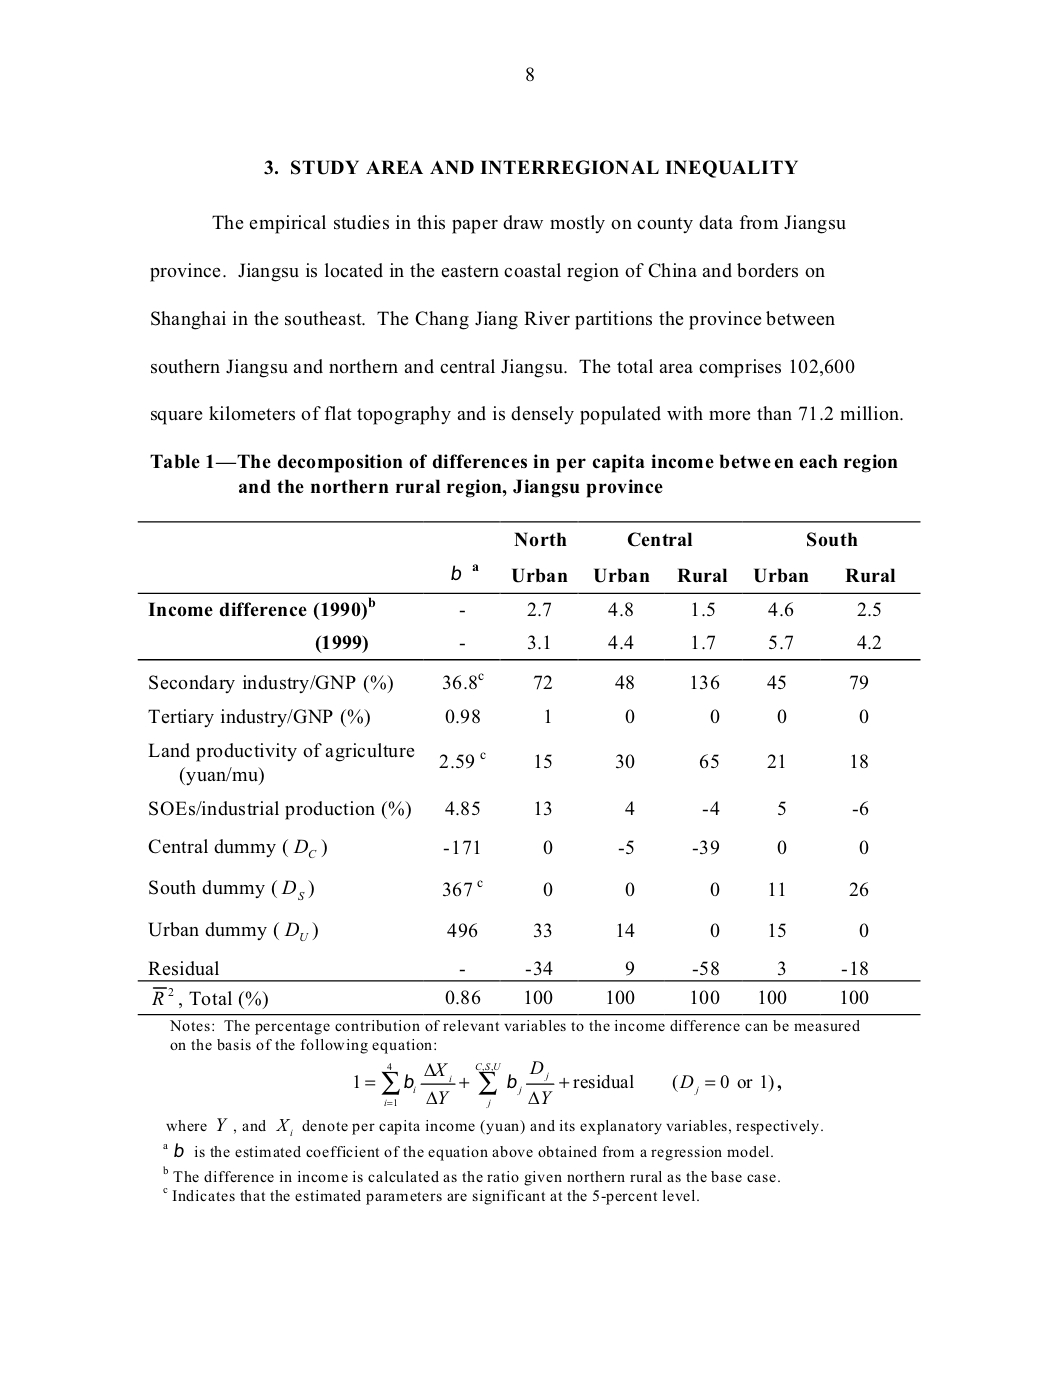Table: (137, 520, 919, 1015)
formula: (354, 1060, 781, 1108)
